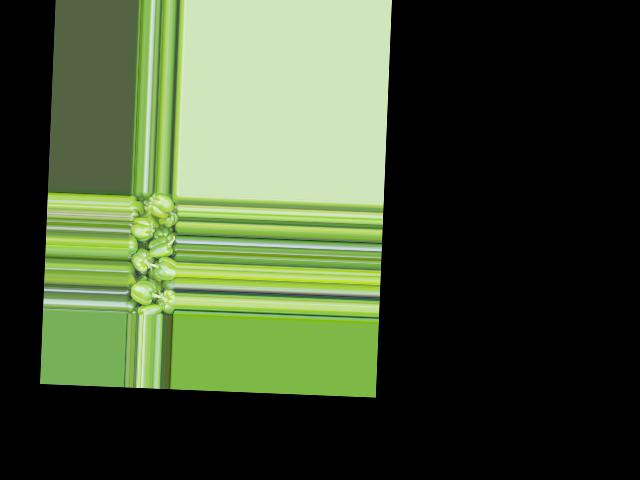bell_pepper: (125, 191, 177, 314)
